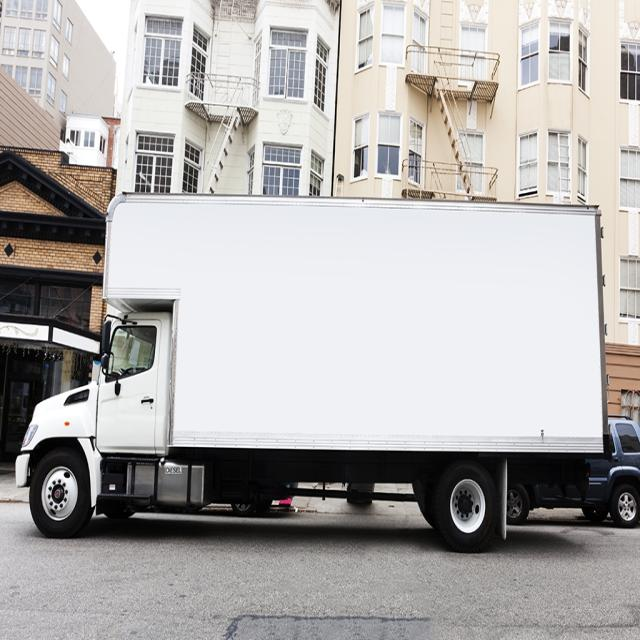overloaded: (13, 189, 626, 551)
